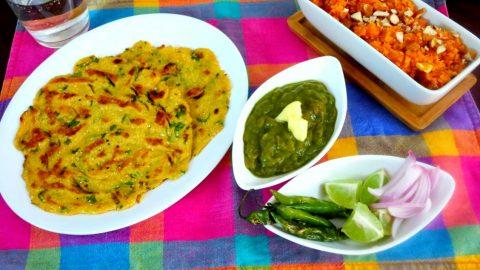saag: (250, 92, 325, 165)
